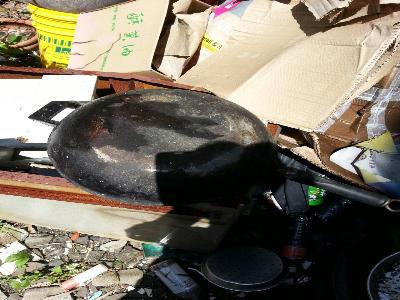bottle: (283, 213, 311, 277)
bowl: (46, 87, 282, 210)
plate: (201, 242, 284, 292)
